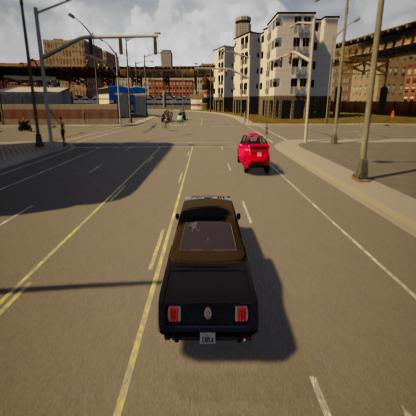Cars: (159, 191, 261, 353), (236, 131, 271, 176), (17, 108, 32, 136), (162, 113, 167, 130), (177, 112, 184, 124)
Pedestrian: (57, 114, 68, 147)
